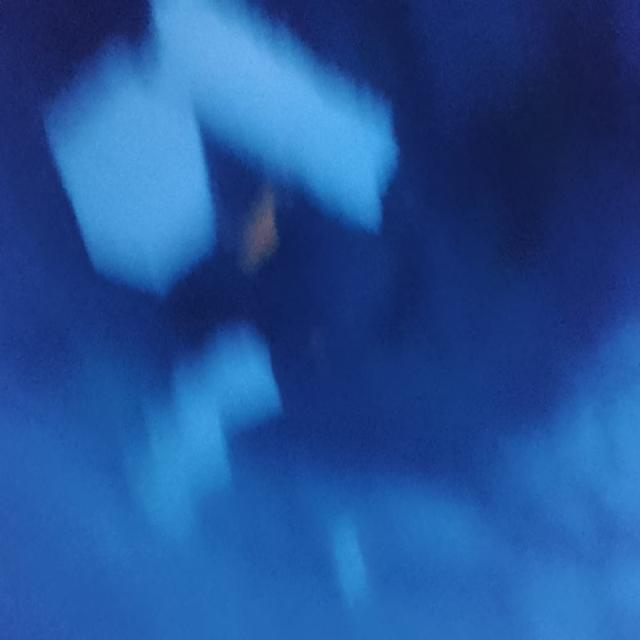thermocoal: (39, 3, 409, 298), (144, 0, 424, 232), (35, 18, 230, 295), (121, 314, 283, 574), (318, 502, 374, 617)
